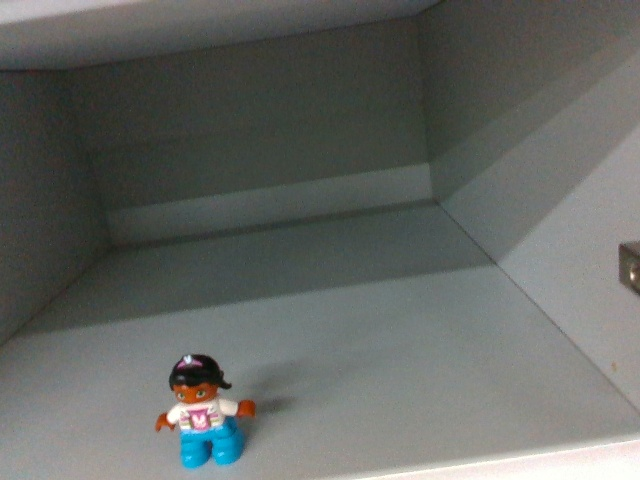people: (151, 353, 261, 471)
